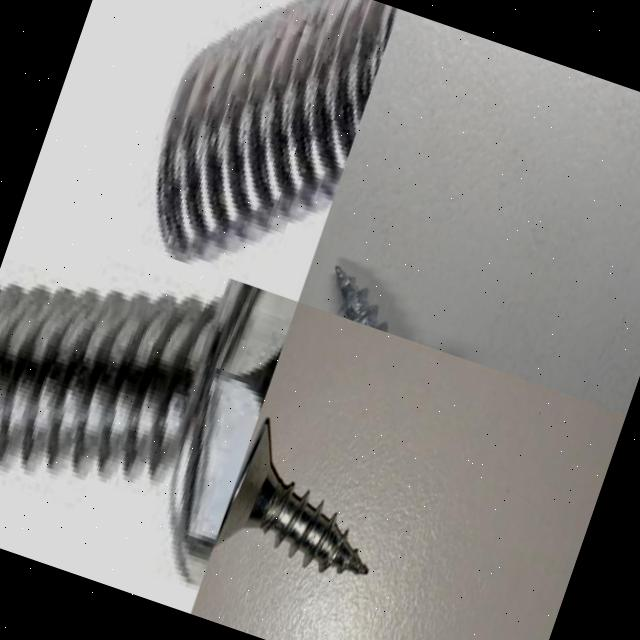Screw: (0, 278, 297, 584), (154, 0, 398, 263), (213, 419, 367, 575)
